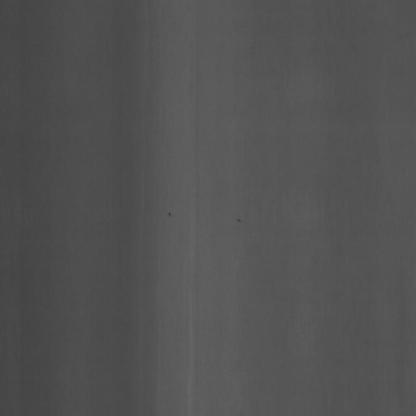inclusion: (161, 206, 177, 226), (233, 209, 244, 235)
